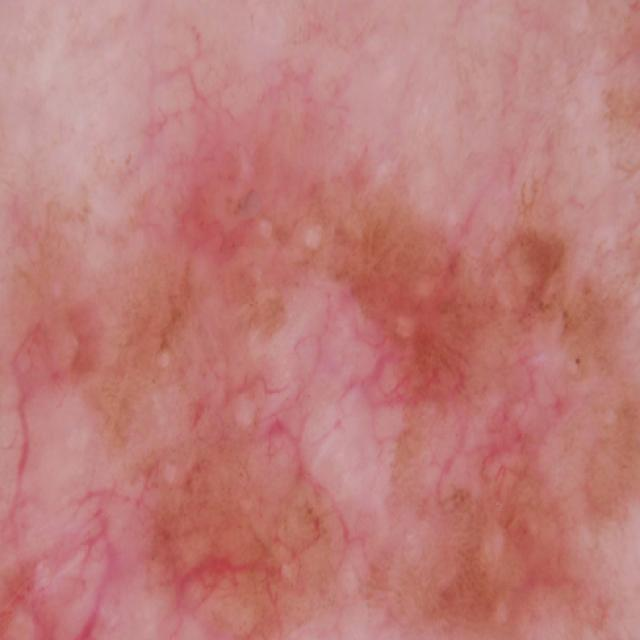Carcinoma: (0, 112, 640, 640)
